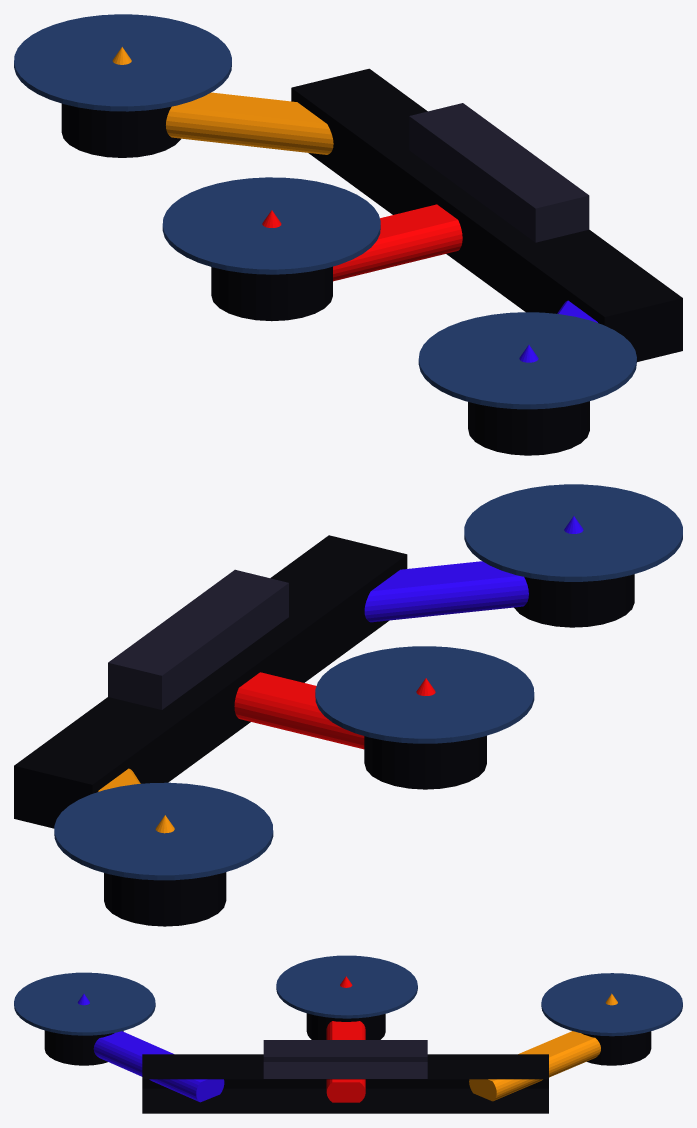
Rendered from hexfpv4.obj.
3 views of the same model, one above another, from view 1: azimuth 30°, elevation 25°; view 2: azimuth 150°, elevation 25°; view 3: azimuth 270°, elevation 25° (orthographic). The views are drawn at different scales.
Parts seen in each view (by area): view 1: Body, Prop.001, Prop, Prop.002, Body_Top, Fore_arm, Motor.002, Motor.001, Port_Arm, Motor; view 2: Body, Prop, Prop.002, Prop.001, Body_Top, Aft_Arm, Motor, Motor.002, Port_Arm, Motor.001; view 3: Body, Prop.002, Prop.001, Prop, Body_Top, Fore_arm, Aft_Arm, Port_Arm, Motor.001, Motor, Motor.002.
Part boxes in pixels (box(x1,y1,x2,y2)): Body: box(291, 68, 682, 361); Prop.001: box(418, 312, 636, 409); Prop: box(14, 14, 231, 111); Prop.002: box(162, 177, 380, 274); Body_Top: box(409, 103, 589, 242); Fore_arm: box(166, 92, 333, 154); Motor.002: box(211, 266, 332, 321); Motor.001: box(468, 401, 589, 455); Port_Arm: box(333, 204, 462, 281); Motor: box(61, 103, 180, 157); Body: box(14, 535, 407, 828); Prop: box(54, 782, 273, 880); Prop.002: box(315, 646, 534, 743); Prop.001: box(464, 484, 682, 581); Body_Top: box(108, 569, 288, 709); Aft_Arm: box(364, 561, 528, 622); Motor: box(104, 872, 226, 926); Motor.002: box(364, 735, 486, 789); Port_Arm: box(234, 672, 364, 749); Motor.001: box(514, 574, 634, 627); Body: box(142, 1054, 548, 1113); Prop.002: box(276, 955, 417, 1018); Prop.001: box(14, 972, 155, 1035); Prop: box(541, 973, 682, 1036); Body_Top: box(263, 1040, 427, 1078); Fore_arm: box(469, 1031, 600, 1101); Aft_Arm: box(93, 1031, 224, 1102); Port_Arm: box(326, 1021, 365, 1102); Motor.001: box(44, 1030, 123, 1065); Motor: box(582, 1031, 651, 1065); Motor.002: box(306, 1013, 385, 1039).
Size of the model in its own units: 0.1376 by 0.0333 by 0.3532.
